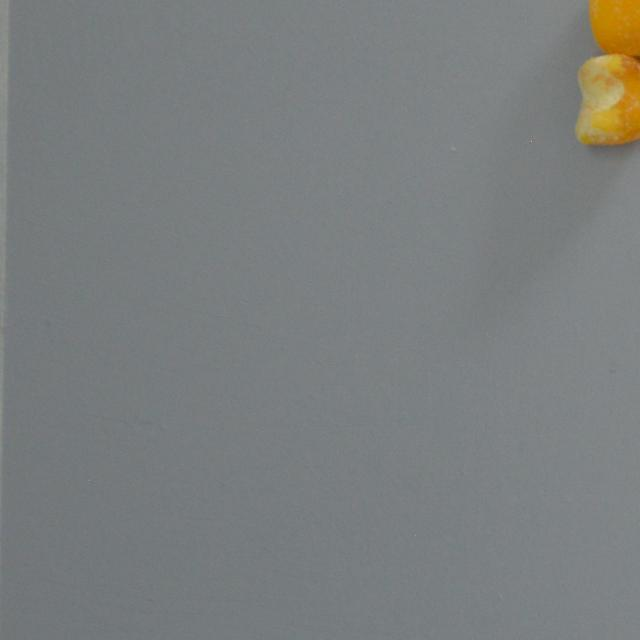pelicula: (573, 52, 640, 148), (588, 0, 640, 56)
